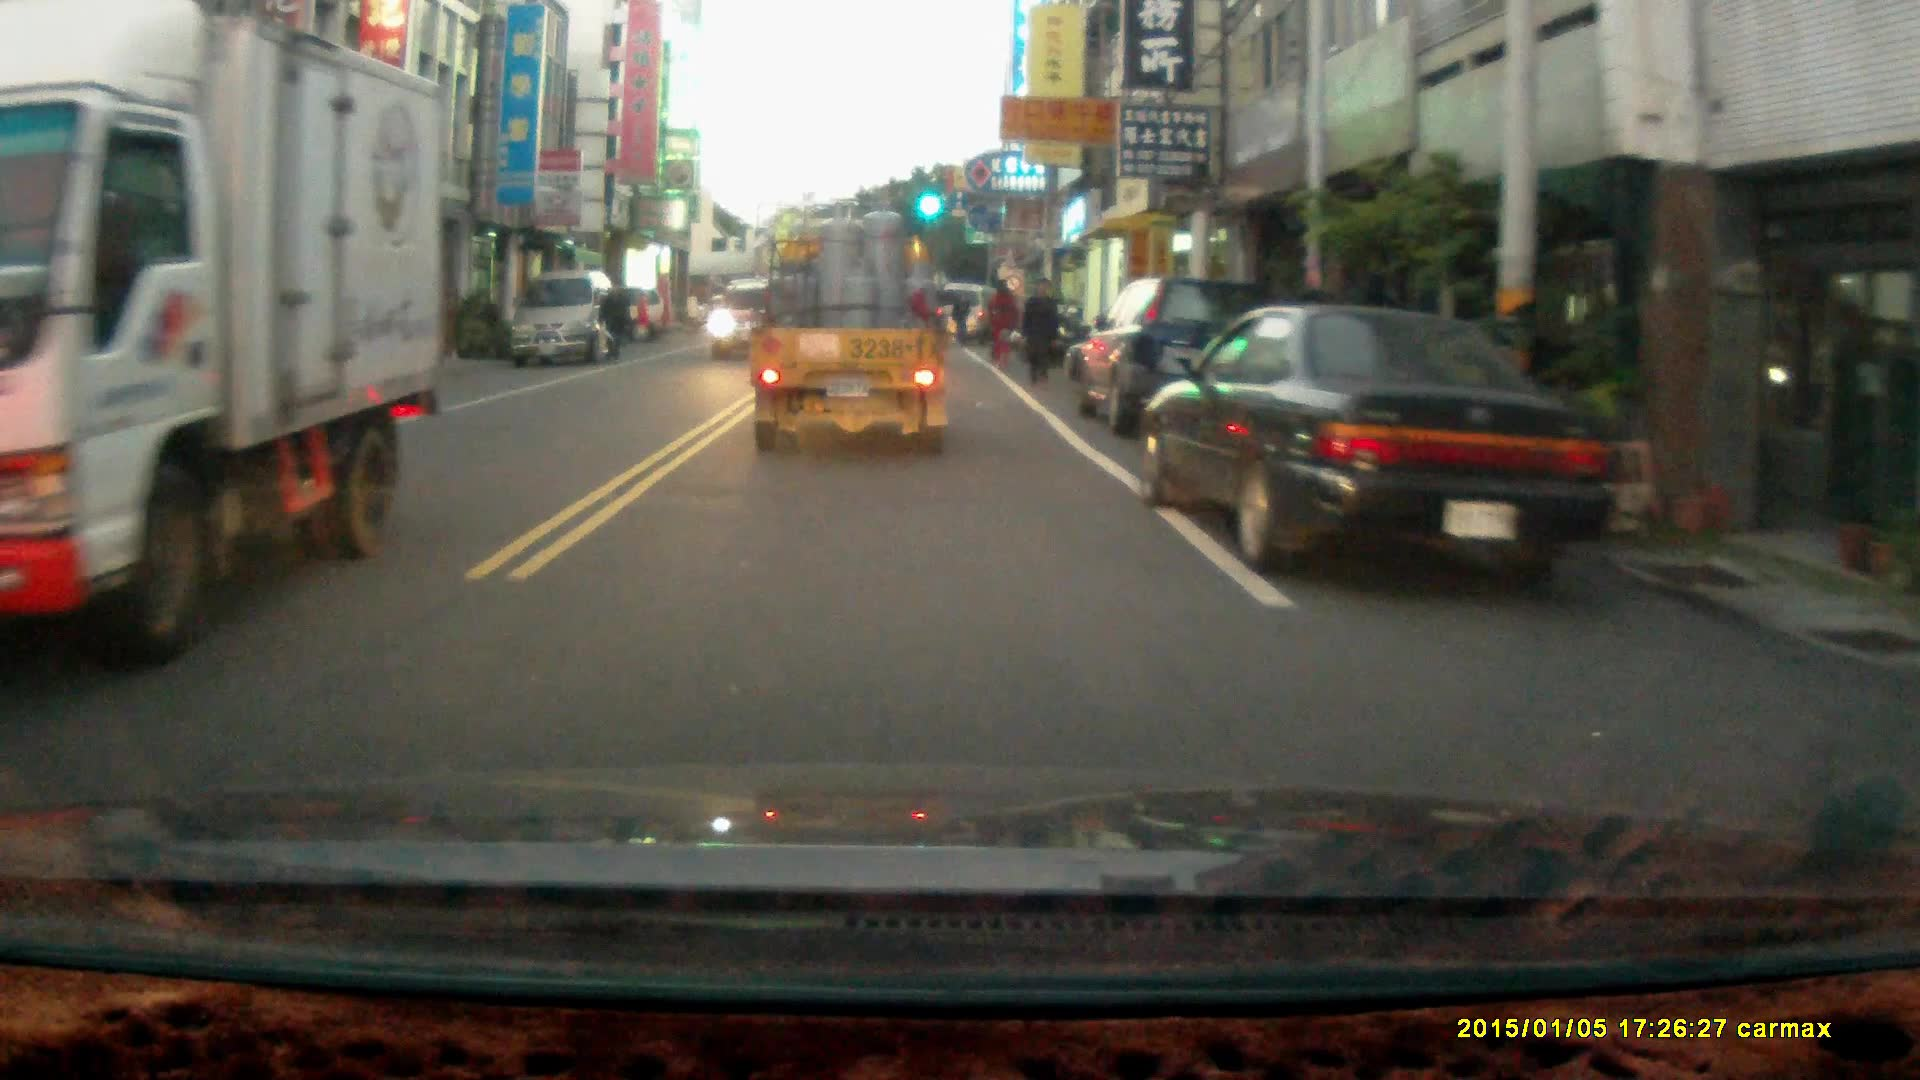pedestrian: (1016, 272, 1060, 390), (982, 279, 1018, 368), (598, 278, 631, 361), (948, 292, 970, 343)
vehicle: (1, 5, 449, 670), (1138, 306, 1613, 582), (744, 190, 958, 463), (1078, 277, 1289, 445), (509, 271, 622, 369), (702, 279, 798, 368)
